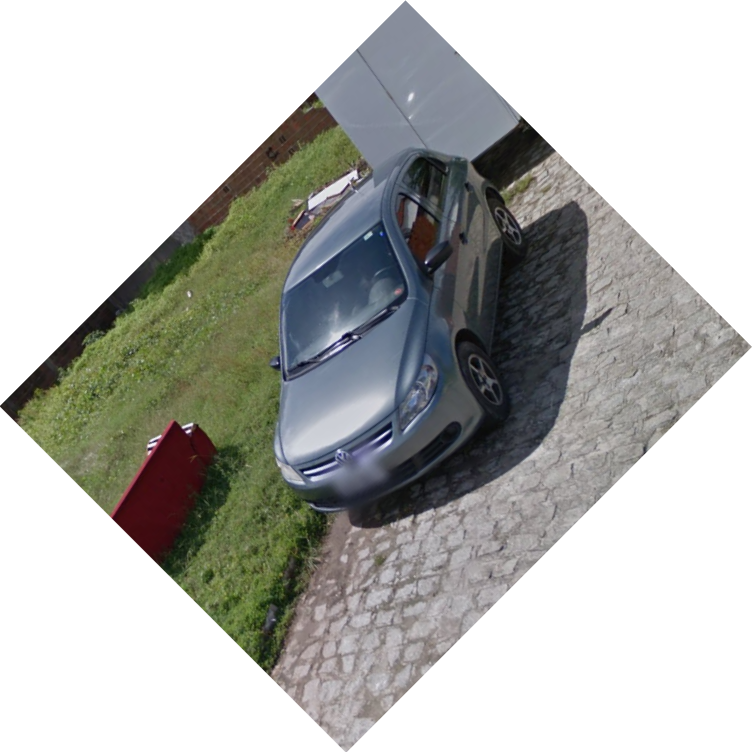car: (266, 141, 527, 519)
